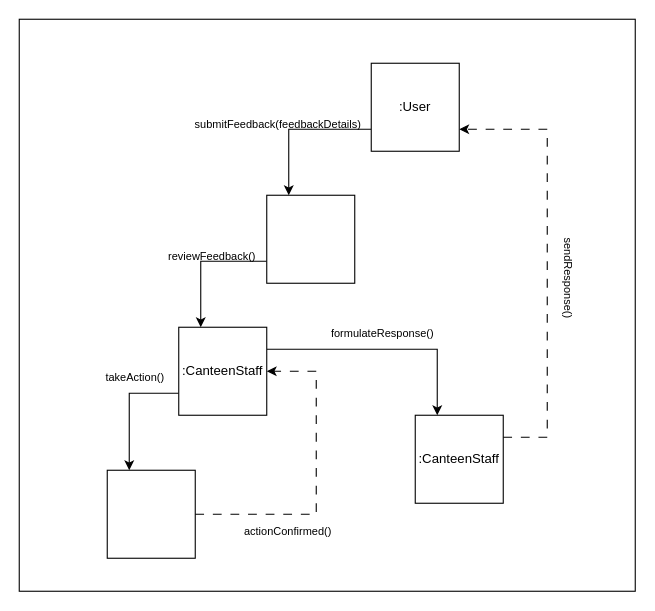
This 655x611 diagram has some shape labels left out. The shapes that lost their labels are listed below. From the top down, each one's centre as x and y in pixels, then its label:
point (310, 238): :Feedback
point (150, 513): :ActionStaff
